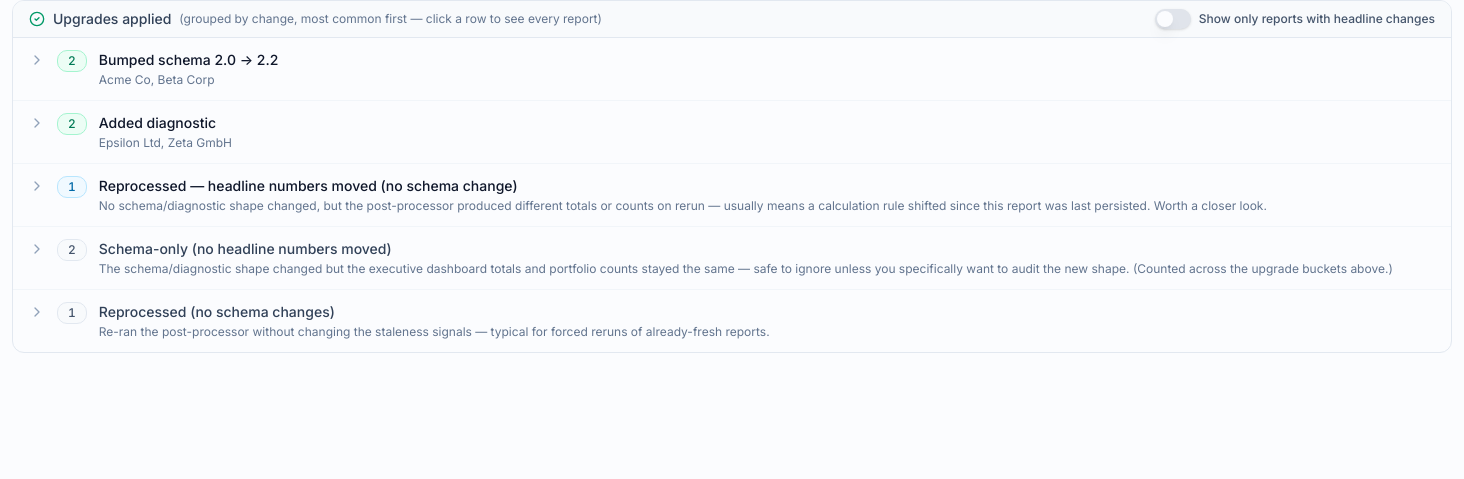
Test: UpgradesAppliedPanel — Copy IDs buttons › reveals button-copy-ids-upgrade-no-change when the no-change bucket expands
Click the button that starts with "Reprocessed (no schema changes)".
click(732, 321)  # box [13,290,1451,352]
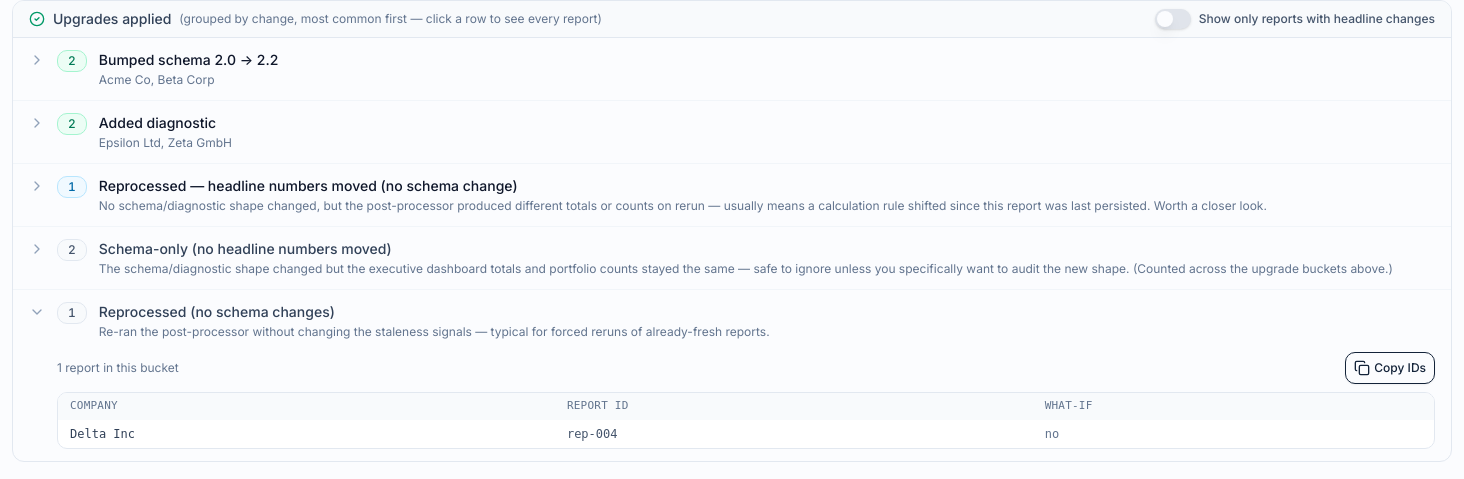
expect the button "Copy IDs" is shown: met, box [1345,352,1435,384]
